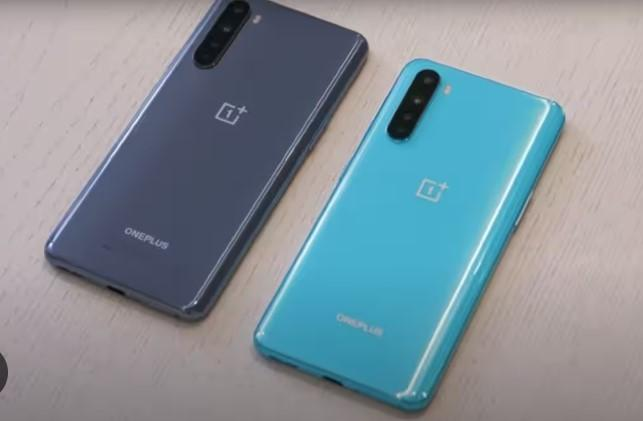Smart Phone: (251, 59, 568, 413), (42, 0, 370, 323)
